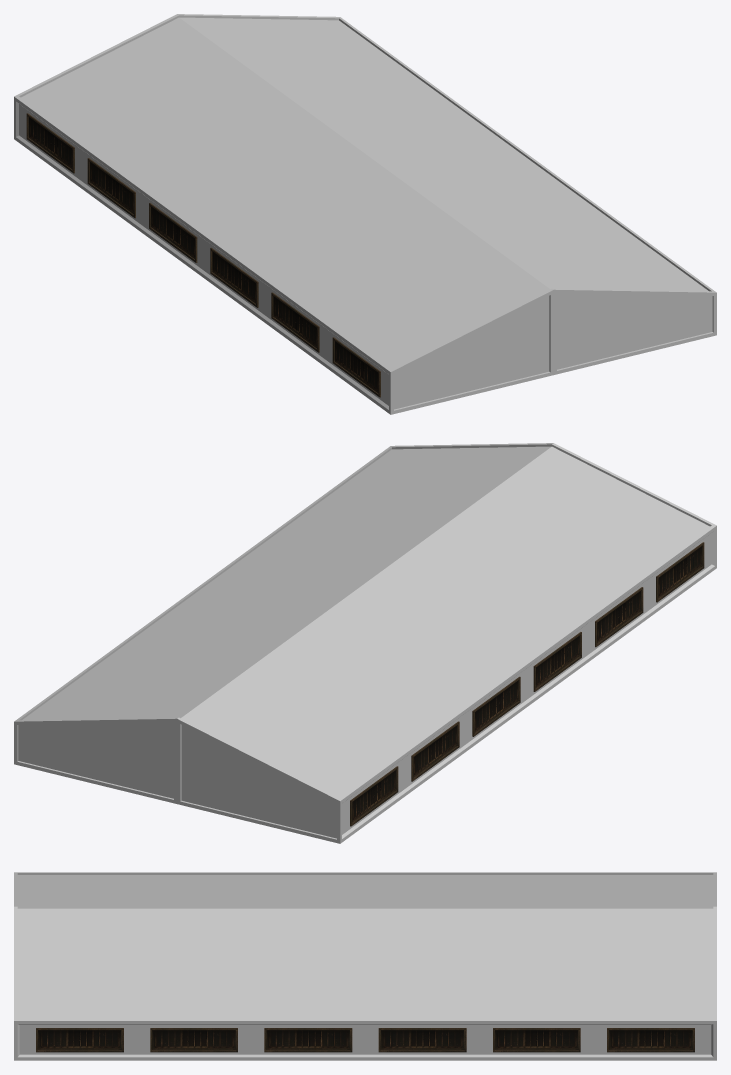
File: roof_mh_4_a_4.fbx
The picture shows the model from 3 angles, top to bottom: view 1: azimuth 30°, elevation 25°; view 2: azimuth 150°, elevation 25°; view 3: azimuth 270°, elevation 25°; orthographic projection. The views are drawn at different scales.
Visible parts, largest first — view 1: roof_mh_4_a_4; view 2: roof_mh_4_a_4; view 3: roof_mh_4_a_4.
Part boxes in pixels (bbox=[...]): roof_mh_4_a_4: bbox=[14, 14, 716, 414]; roof_mh_4_a_4: bbox=[14, 443, 716, 843]; roof_mh_4_a_4: bbox=[14, 872, 716, 1060].
Size of the model in its own units: 8 by 16 by 2.
